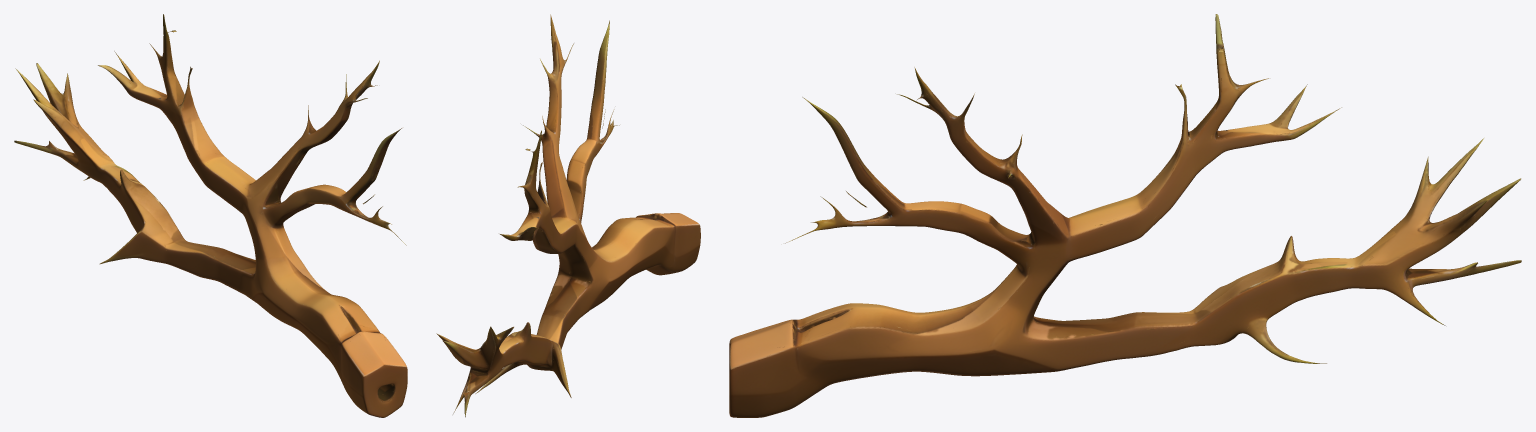
Rendered from tree-branch.fbx.
3 views of the same model, side by side, from view 1: azimuth 30°, elevation 25°; view 2: azimuth 150°, elevation 25°; view 3: azimuth 270°, elevation 25° (orthographic). The views are drawn at different scales.
Visible parts, largest first — view 1: tree-branch; view 2: tree-branch; view 3: tree-branch.
Part boxes in pixels (left/top/right/bottom): tree-branch: left=14, top=14, right=407, bottom=417; tree-branch: left=436, top=14, right=700, bottom=417; tree-branch: left=729, top=14, right=1521, bottom=417.
Bounding box in the file's own units: 57.42 × 103 × 189.
1 material, 1 textured.
